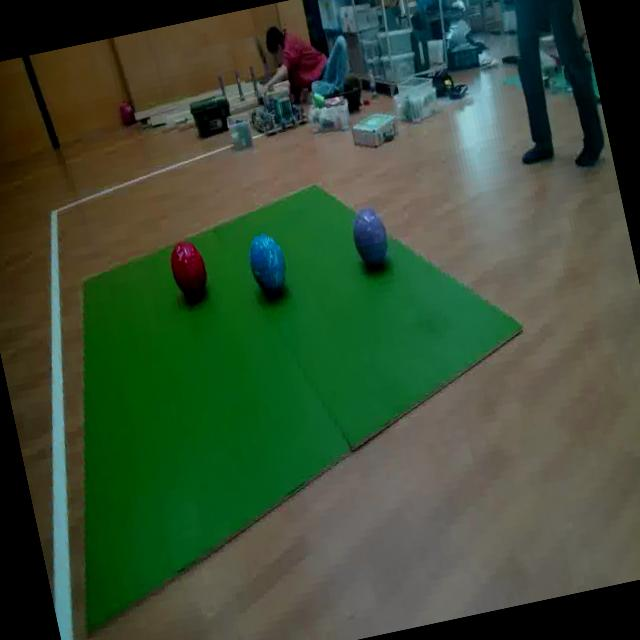blue_ball: (245, 230, 291, 295)
purple_ball: (348, 205, 391, 268)
red_ball: (167, 236, 210, 300)
